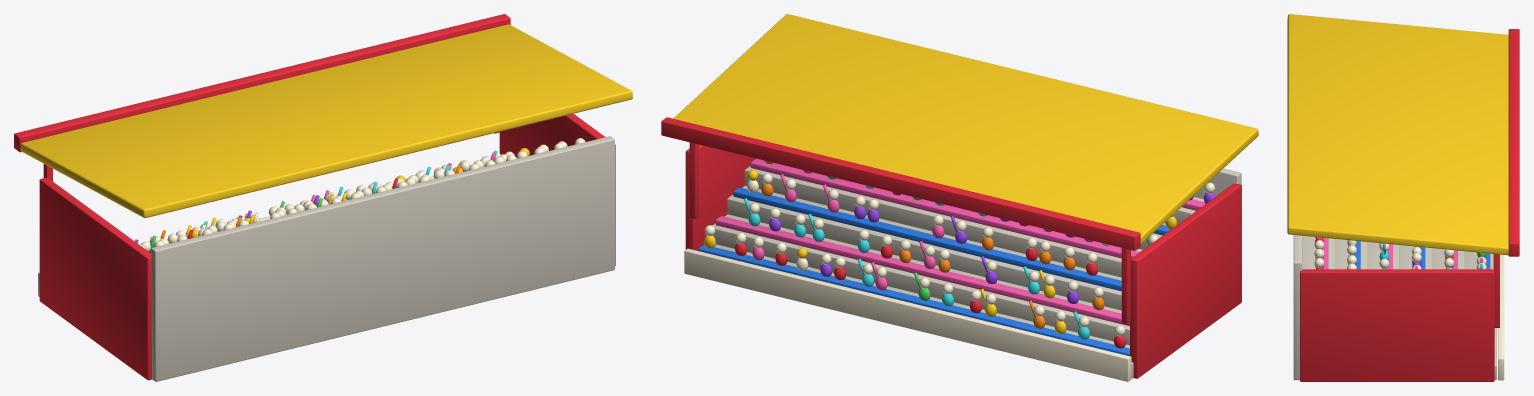
File: grandstand.glb
3 renders of one model, left to right at view 1: azimuth 30°, elevation 25°; view 2: azimuth 150°, elevation 25°; view 3: azimuth 270°, elevation 25°, orthographic. The views are drawn at different scales.
Visible parts, largest first — view 1: grandstand_mesh; view 2: grandstand_mesh; view 3: grandstand_mesh.
Boxes of the visible parts, x1=… form: grandstand_mesh: x1=14, y1=14, x2=632, y2=381; grandstand_mesh: x1=661, y1=14, x2=1258, y2=381; grandstand_mesh: x1=1287, y1=14, x2=1519, y2=381.
Bounding box in the file's own units: 23.5 × 8.14 × 10.73.
